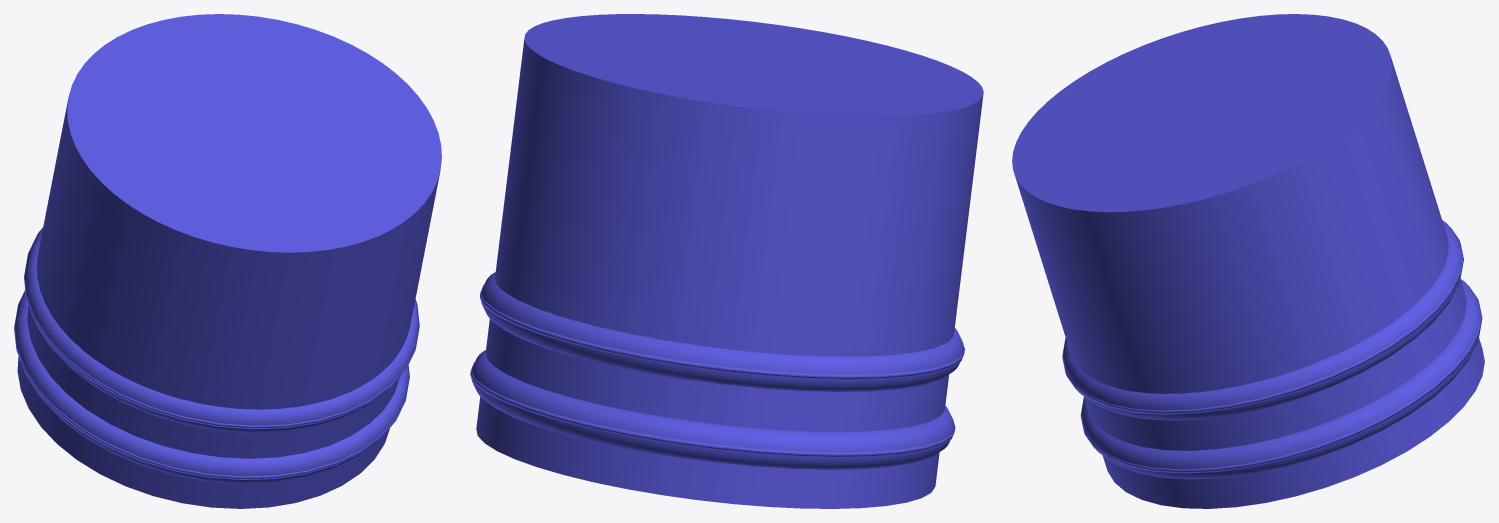
File: bombilla214.obj
The picture shows the model from 3 angles, left to right: view 1: azimuth 30°, elevation 25°; view 2: azimuth 150°, elevation 25°; view 3: azimuth 270°, elevation 25°; orthographic projection. The views are drawn at different scales.
Parts seen in each view (by area): view 1: Cylinder001, Cylinder004, Cylinder002, Cylinder003, Cylinder006; view 2: Cylinder001, Cylinder003, Cylinder004, Cylinder006, Cylinder002; view 3: Cylinder001, Cylinder004, Cylinder003, Cylinder002, Cylinder006.
Boxes of the visible parts, x1=… form: Cylinder001: x1=36, y1=14, x2=441, y2=409; Cylinder004: x1=14, y1=290, x2=409, y2=483; Cylinder002: x1=24, y1=227, x2=419, y2=433; Cylinder003: x1=27, y1=305, x2=399, y2=458; Cylinder006: x1=17, y1=356, x2=389, y2=508; Cylinder001: x1=495, y1=14, x2=983, y2=356; Cylinder003: x1=485, y1=319, x2=948, y2=431; Cylinder004: x1=470, y1=350, x2=955, y2=469; Cylinder006: x1=476, y1=397, x2=939, y2=508; Cylinder002: x1=479, y1=272, x2=964, y2=391; Cylinder001: x1=1012, y1=14, x2=1448, y2=393; Cylinder004: x1=1080, y1=279, x2=1482, y2=479; Cylinder003: x1=1084, y1=279, x2=1466, y2=450; Cylinder002: x1=1062, y1=220, x2=1463, y2=420; Cylinder006: x1=1102, y1=338, x2=1484, y2=508.
Bounding box in the file's own units: 72.45 × 75.89 × 82.04.
